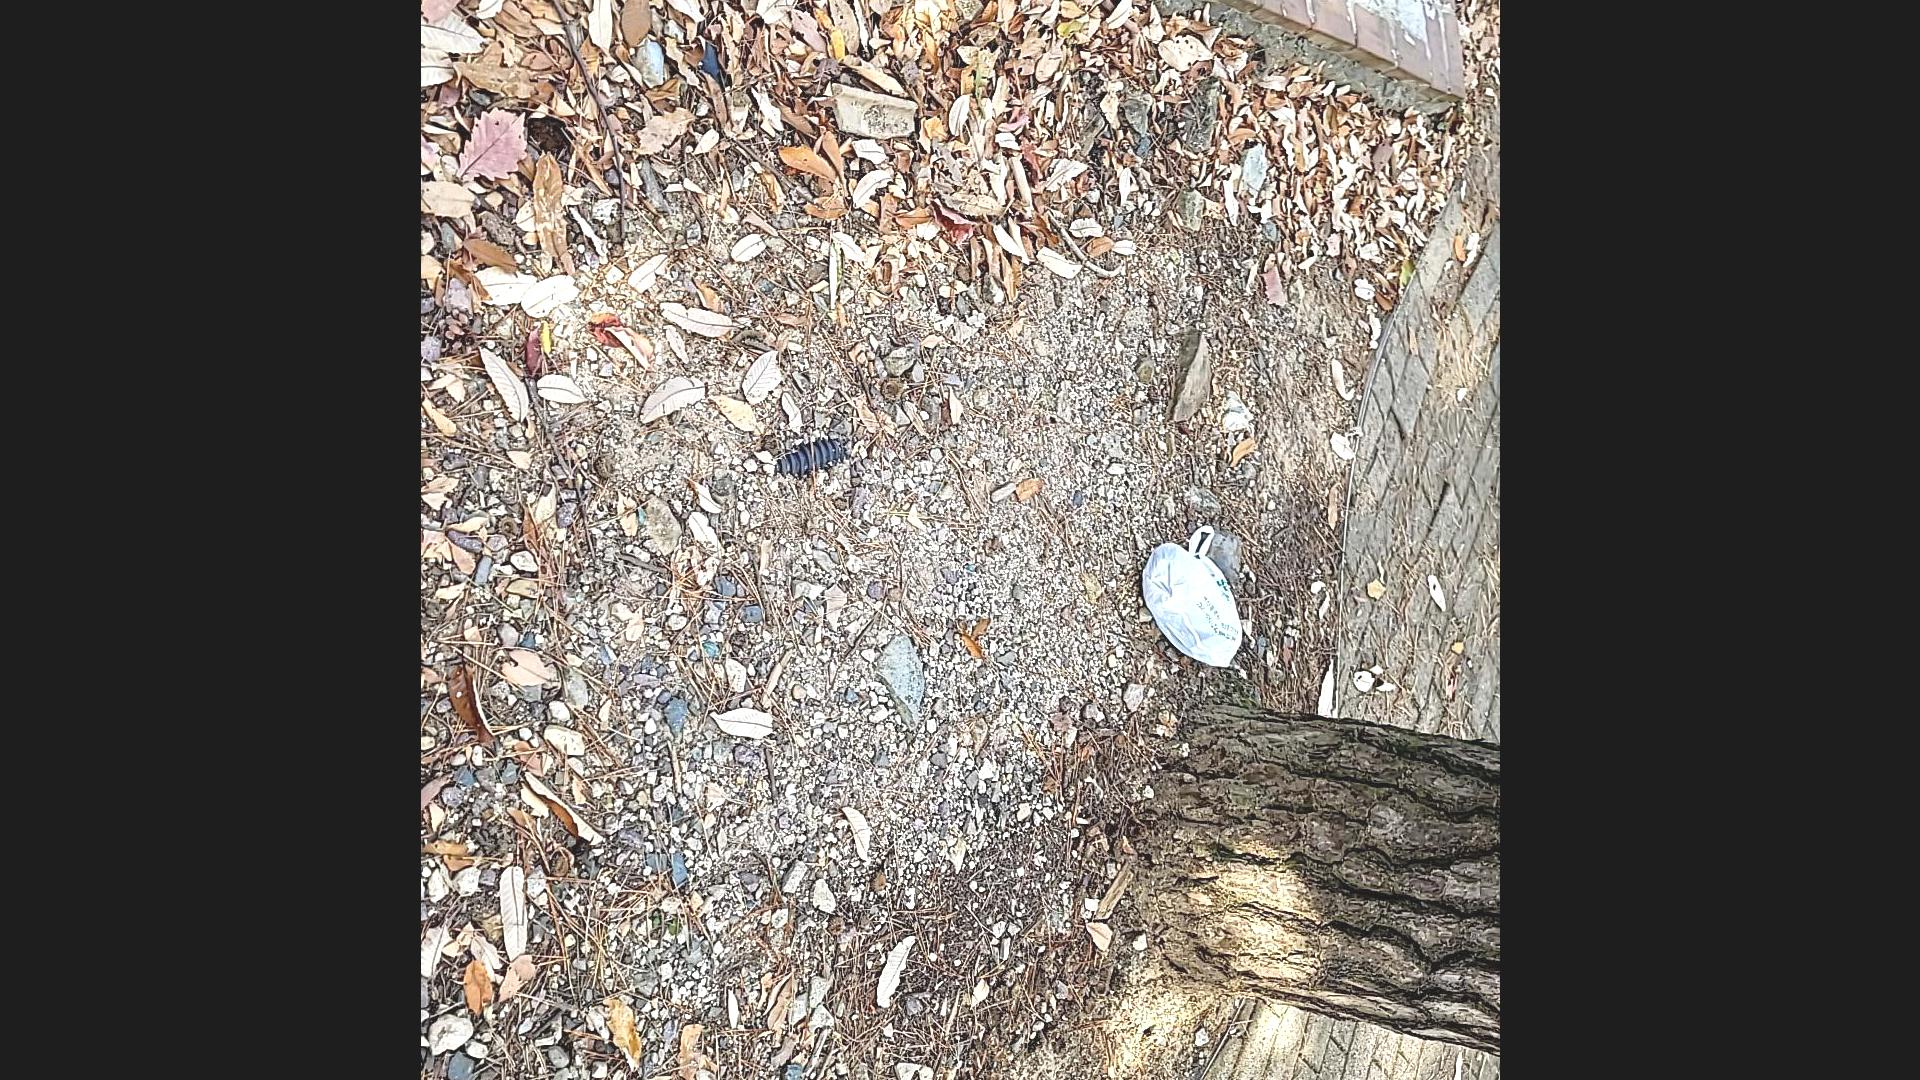white_bag: (1135, 510, 1255, 676)
